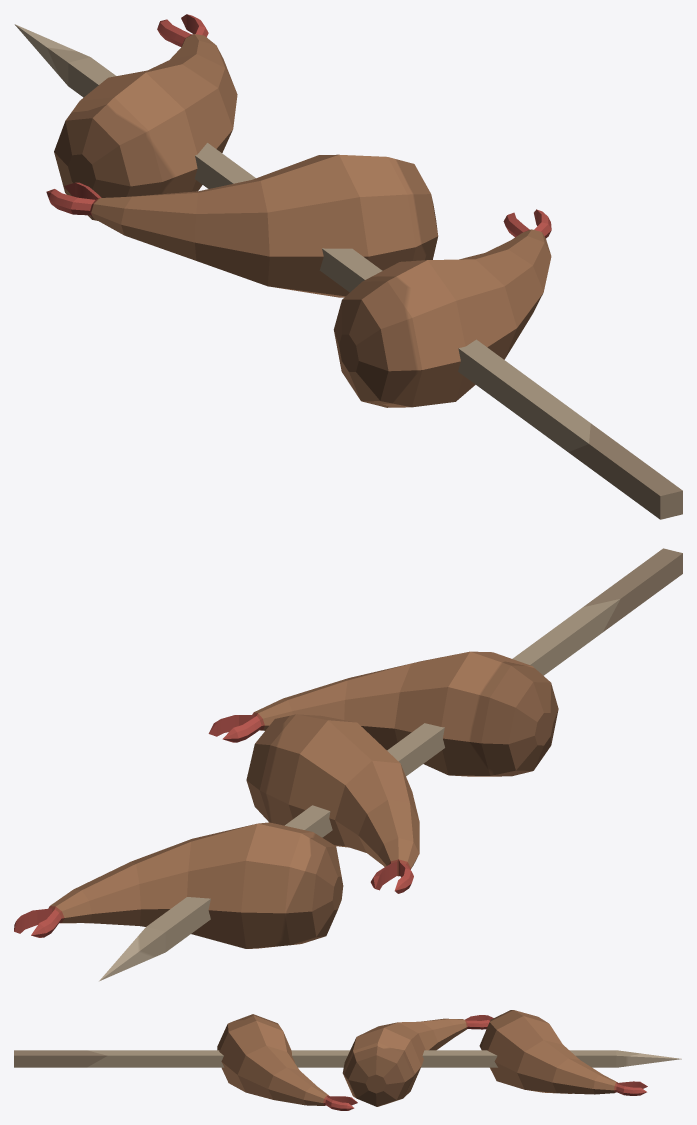
File: SM_Prop_Food_Sticks_03.fbx
3 views of the same model, one above another, from view 1: azimuth 30°, elevation 25°; view 2: azimuth 150°, elevation 25°; view 3: azimuth 270°, elevation 25° (orthographic). The views are drawn at different scales.
Parts seen in each view (by area): view 1: SM_Prop_Food_Sticks_03; view 2: SM_Prop_Food_Sticks_03; view 3: SM_Prop_Food_Sticks_03.
Part boxes in pixels (<box>): SM_Prop_Food_Sticks_03: <box>14,14,682,519</box>; SM_Prop_Food_Sticks_03: <box>14,548,682,981</box>; SM_Prop_Food_Sticks_03: <box>14,1010,681,1110</box>.
Bounding box in the file's own units: 18.02 × 7.06 × 57.18.
